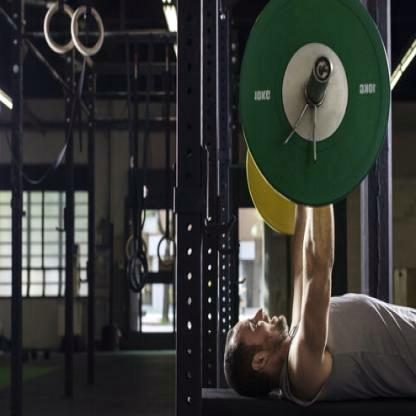Barbell: (309, 52, 332, 86)
